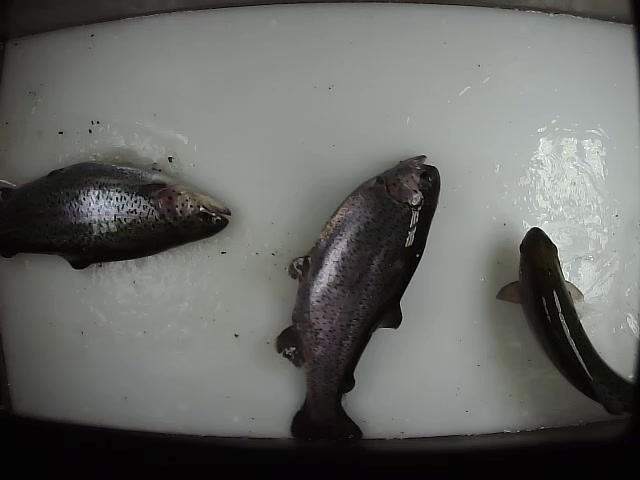fish: (272, 153, 444, 448), (493, 224, 640, 418), (1, 156, 233, 271)
